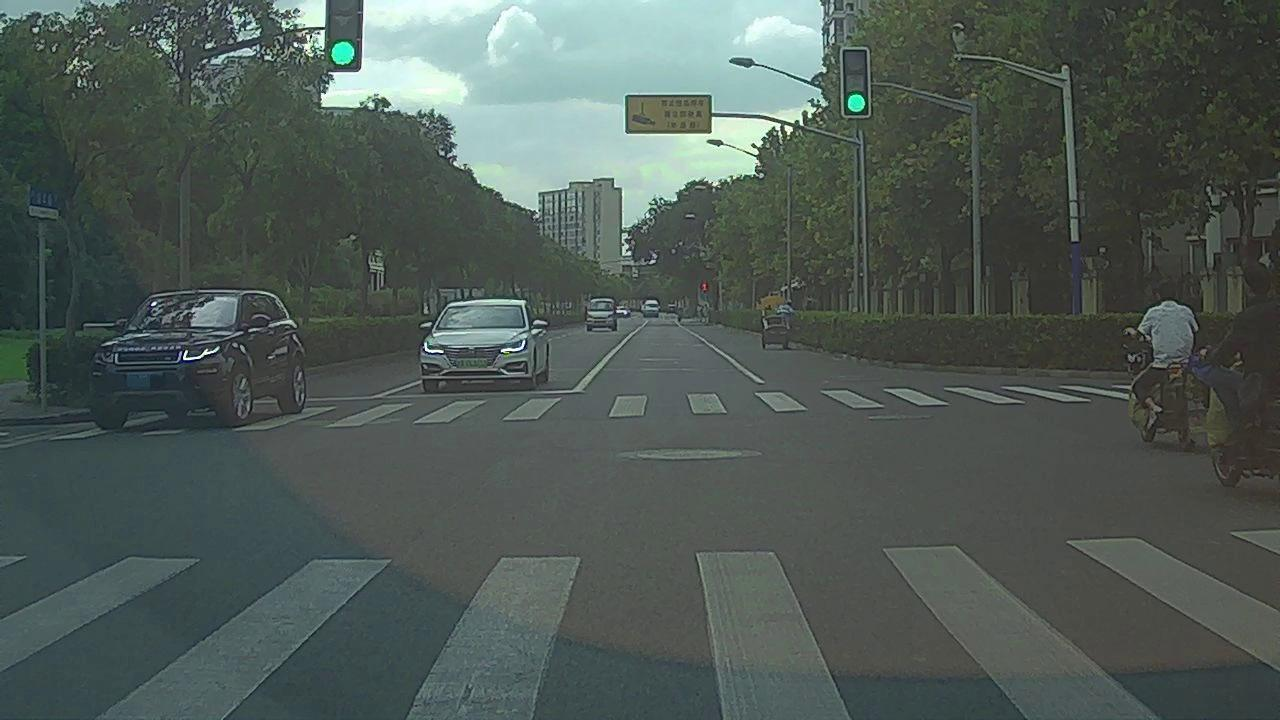traffic_light: (327, 1, 361, 66), (845, 48, 867, 121)
